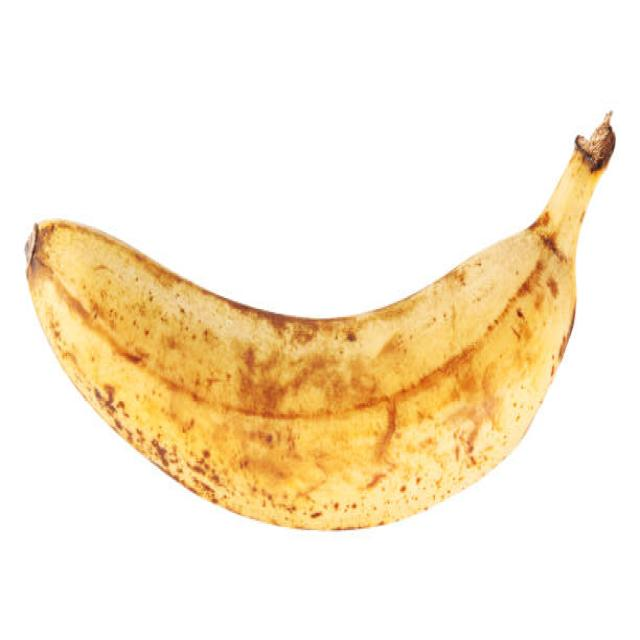overripe: (20, 106, 618, 539)
